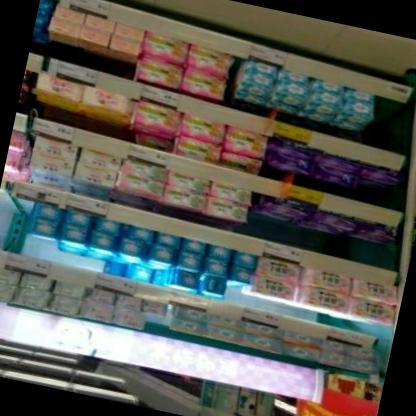empty_space: (367, 95, 410, 154), (0, 196, 34, 256)
